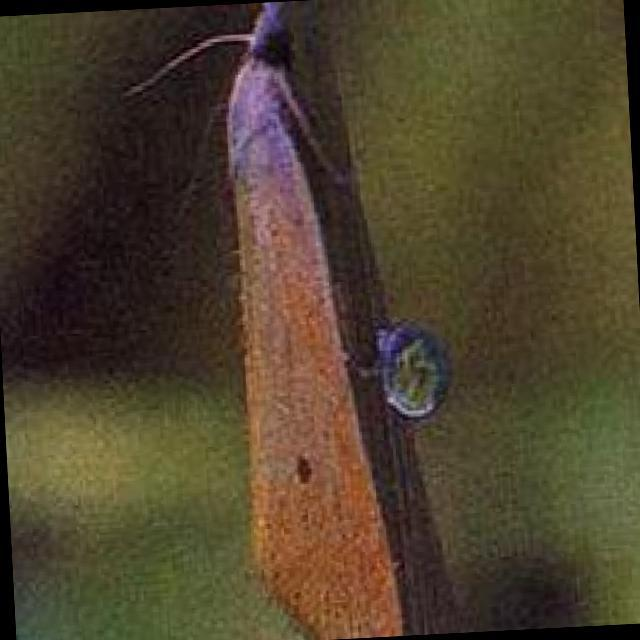stem borer: (126, 3, 401, 639)
